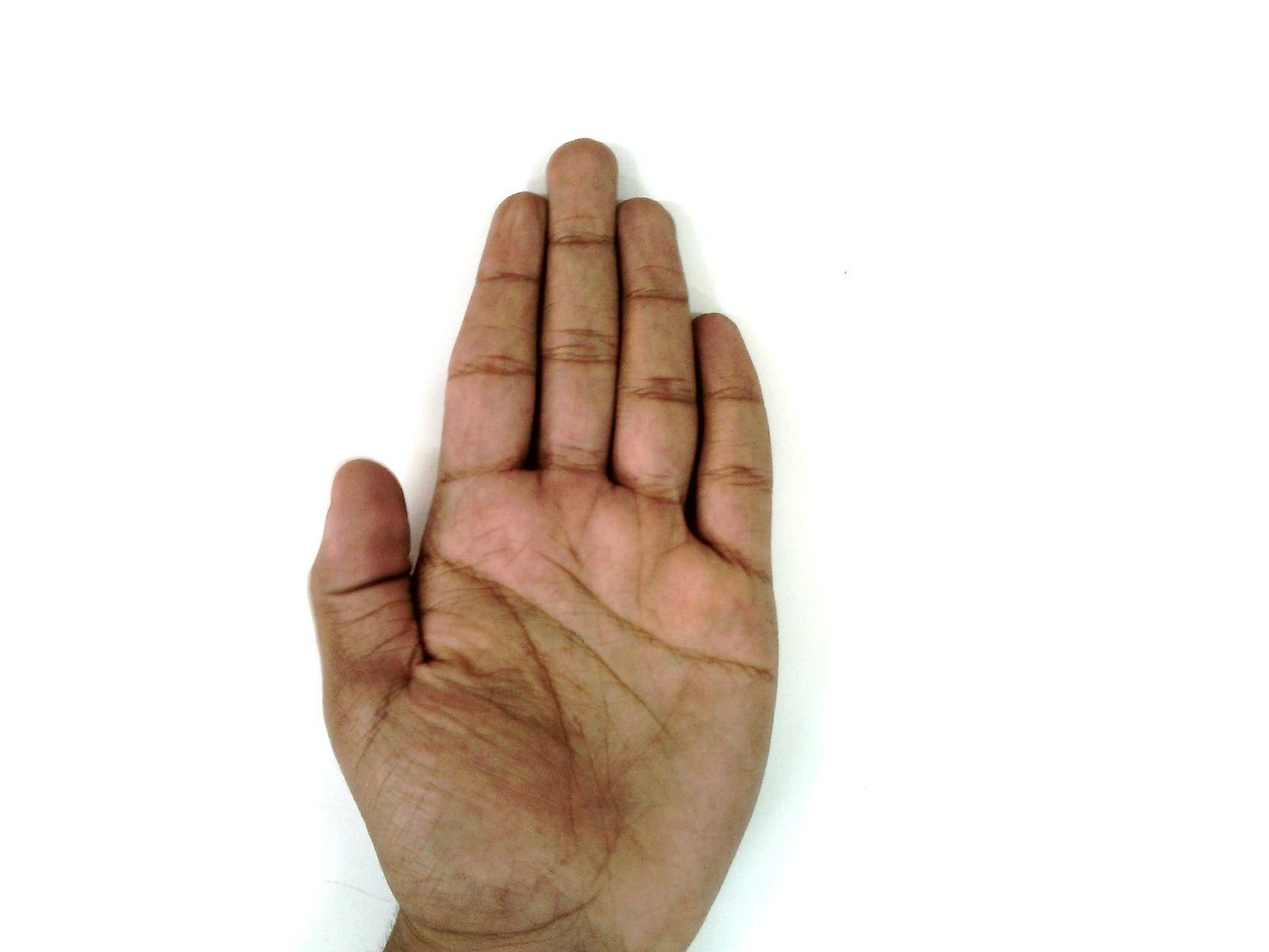open_palm: (306, 137, 784, 950)
